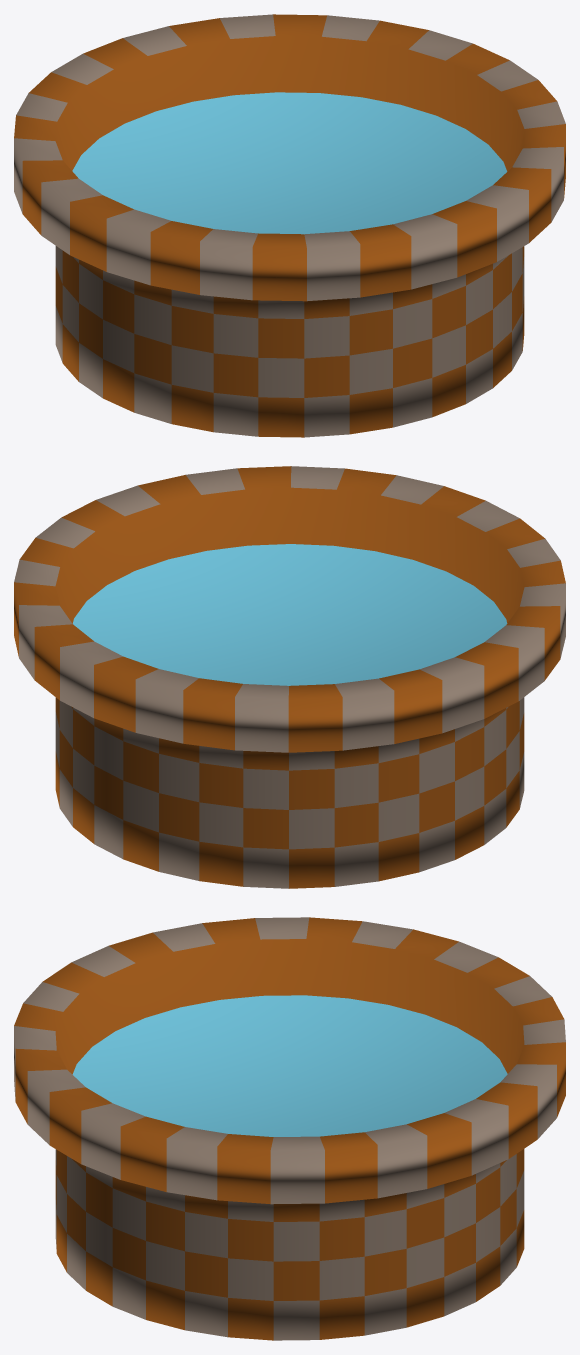
Rendered from Well.fbx.
The picture shows the model from 3 angles, top to bottom: view 1: azimuth 30°, elevation 25°; view 2: azimuth 150°, elevation 25°; view 3: azimuth 270°, elevation 25°; orthographic projection.
Visible parts, largest first — view 1: Well; view 2: Well; view 3: Well.
Boxes of the visible parts, left/top/right/bottom form: Well: left=14, top=14, right=565, bottom=437; Well: left=14, top=466, right=565, bottom=888; Well: left=14, top=917, right=565, bottom=1340.
Bounding box in the file's own units: 461 × 461 × 191.
